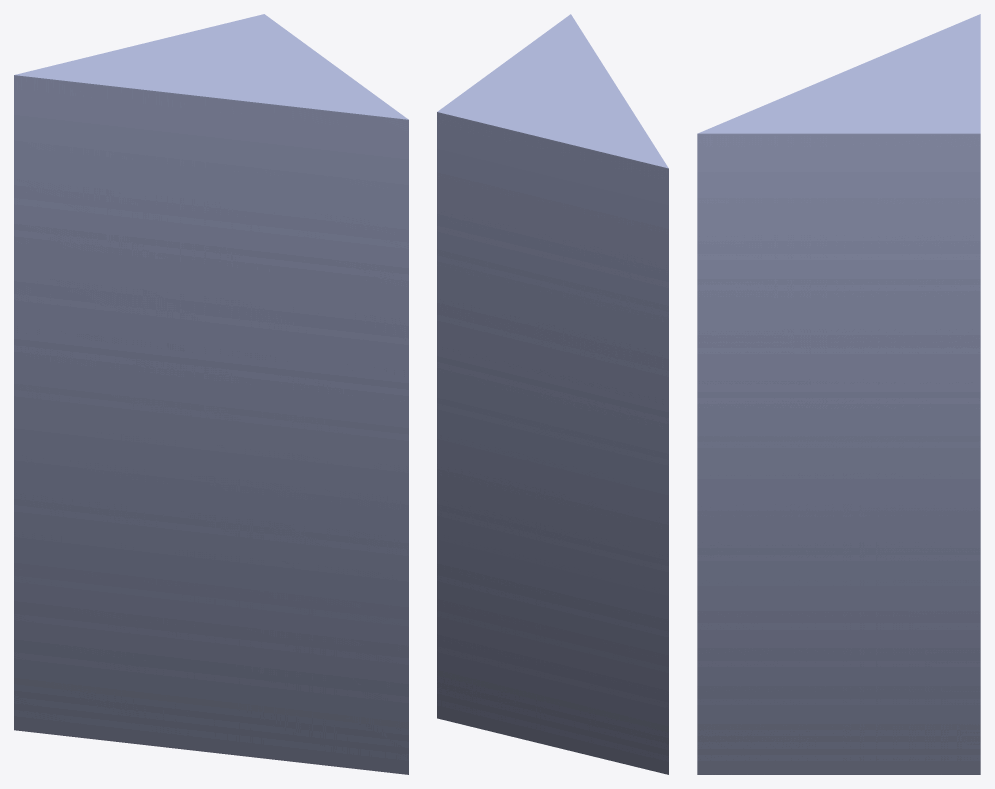
The model's file is column-triangle-low.glb.
3 views of the same model, side by side, from view 1: azimuth 30°, elevation 25°; view 2: azimuth 150°, elevation 25°; view 3: azimuth 270°, elevation 25° (orthographic). The views are drawn at different scales.
Parts seen in each view (by area): view 1: column-triangle-low; view 2: column-triangle-low; view 3: column-triangle-low.
Boxes of the visible parts, x1,y1,x2,y2 form: column-triangle-low: (14,14,408,774); column-triangle-low: (437,14,668,774); column-triangle-low: (697,14,980,774).
Size of the model in its own units: 0.2 by 0.5 by 0.2.
Materials: 1 (1 with a texture image).
